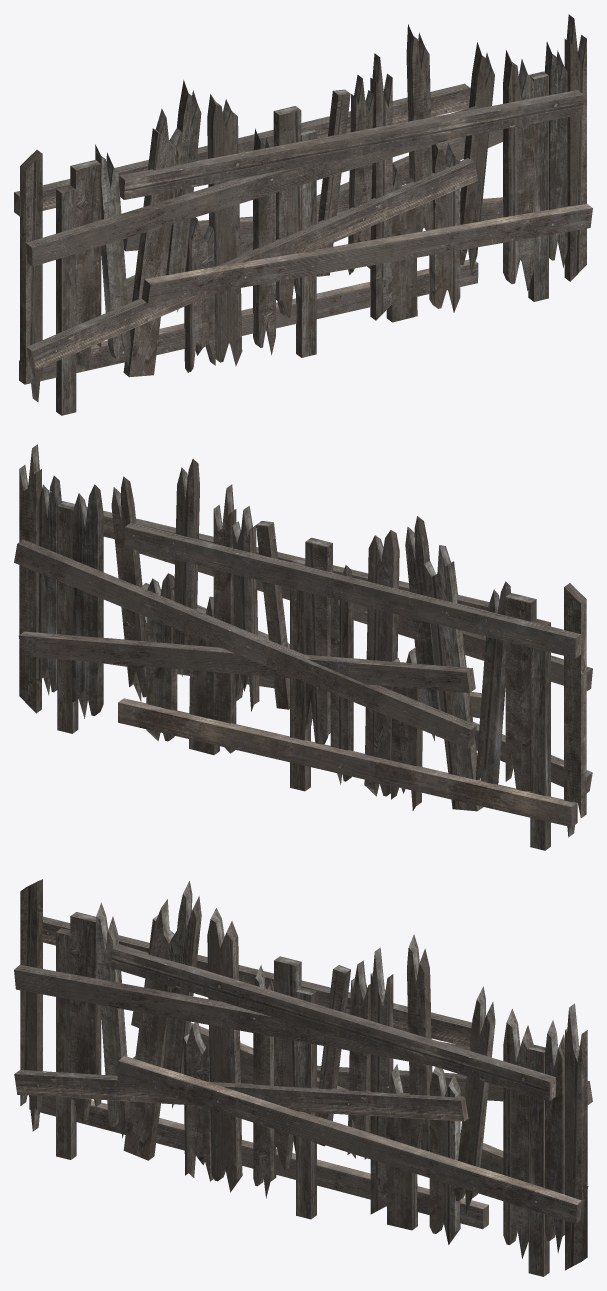
Rendered from SM_WoodFence03.fbx.
3 renders of one model, top to bottom at view 1: azimuth 30°, elevation 25°; view 2: azimuth 150°, elevation 25°; view 3: azimuth 330°, elevation 25°, orthographic.
Visible parts, largest first — view 1: SM_WoodFence03; view 2: SM_WoodFence03; view 3: SM_WoodFence03.
Boxes of the visible parts, x1=… form: SM_WoodFence03: x1=14, y1=14, x2=592, y2=415; SM_WoodFence03: x1=14, y1=444, x2=592, y2=850; SM_WoodFence03: x1=14, y1=879, x2=592, y2=1276.
Size of the model in its own units: 299 by 155 by 30.24.
